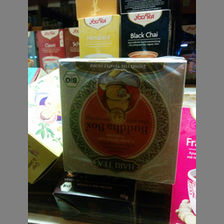tea: (60, 56, 187, 181), (120, 9, 169, 57), (78, 17, 120, 56)
